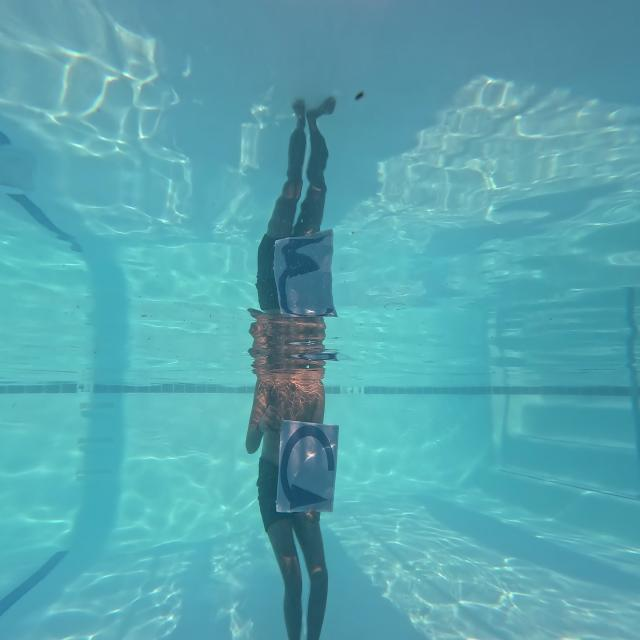blue_side: (278, 409, 339, 518)
